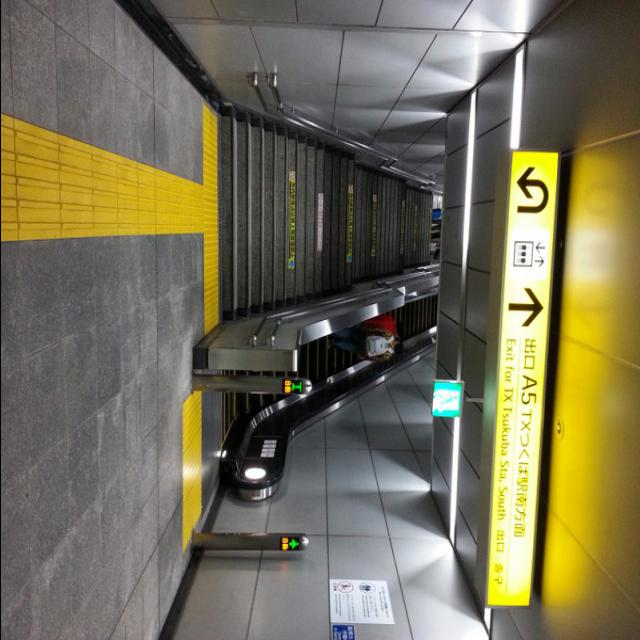tactile-guide-path: (1, 111, 204, 243), (204, 109, 220, 336), (180, 392, 202, 554)
